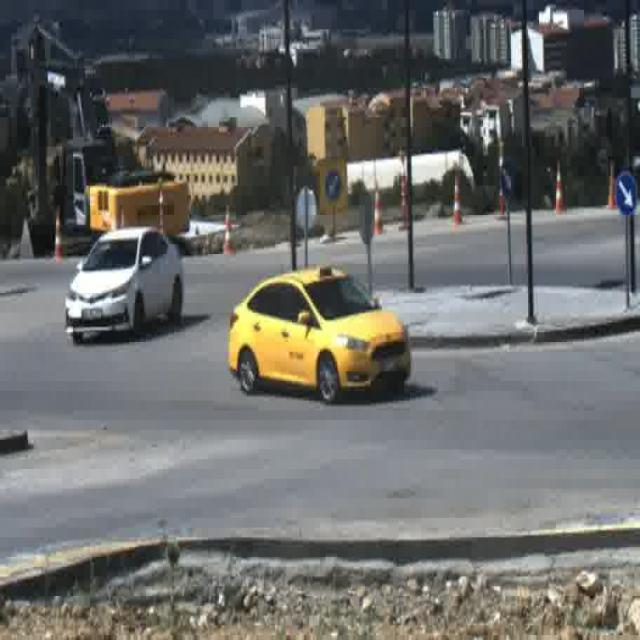Car: (225, 268, 414, 400), (62, 223, 182, 342)
